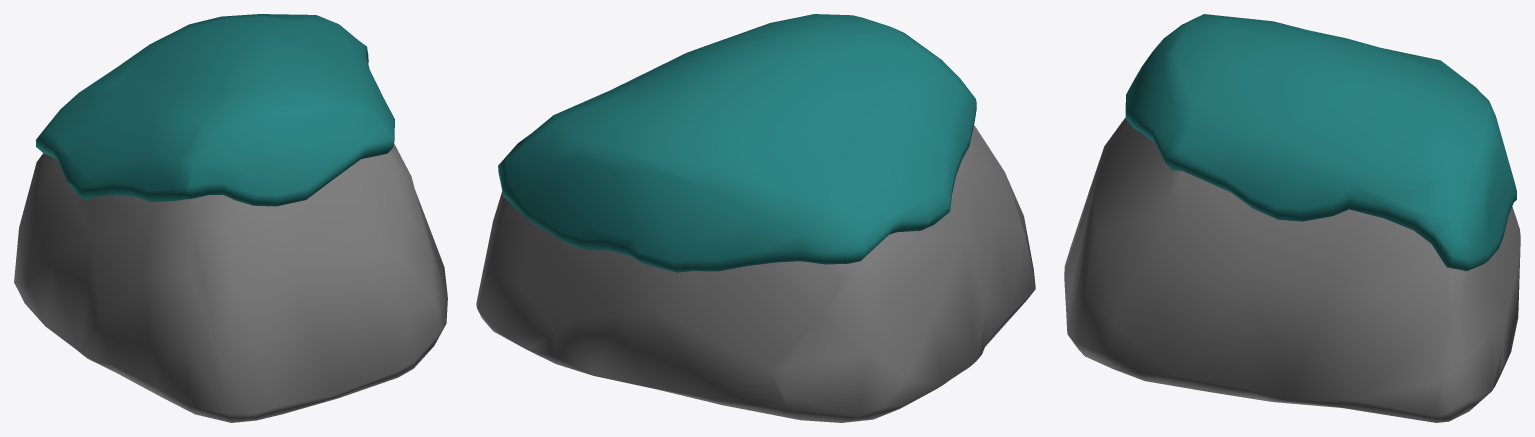
The model's file is stone2.fbx.
3 views of the same model, side by side, from view 1: azimuth 30°, elevation 25°; view 2: azimuth 150°, elevation 25°; view 3: azimuth 270°, elevation 25° (orthographic). The views are drawn at different scales.
Visible parts, largest first — view 1: 2stone, 2moss; view 2: 2moss, 2stone; view 3: 2stone, 2moss.
Part boxes in pixels (left/top/right/bottom): 2stone: left=14, top=143, right=447, bottom=422; 2moss: left=36, top=14, right=394, bottom=206; 2moss: left=498, top=14, right=976, bottom=272; 2stone: left=476, top=125, right=1035, bottom=422; 2stone: left=1064, top=117, right=1520, bottom=422; 2moss: left=1125, top=14, right=1516, bottom=271.
Bounding box in the file's own units: 124 × 81.3 × 117.
